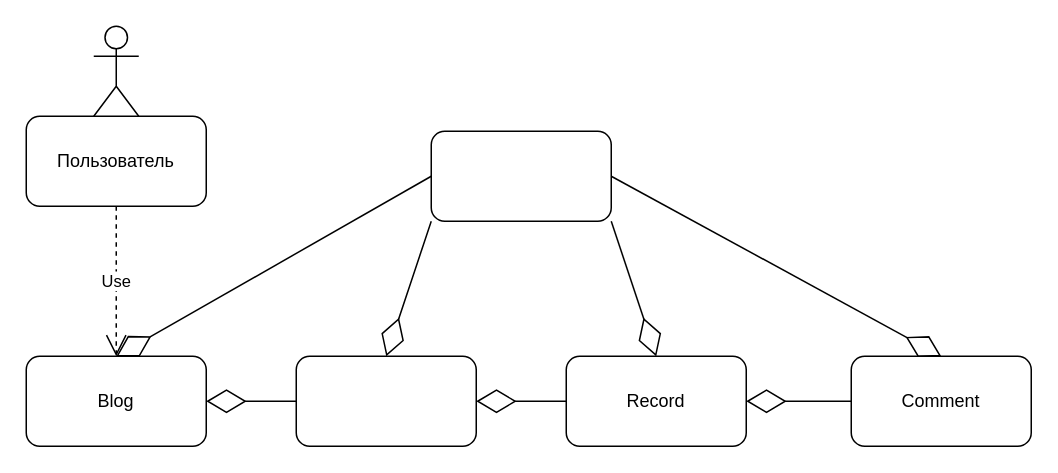
Image size: 1058x473. Some labels were removed from this diagram. The box of each missing label's shape, as (x1, y1, x2, y2) in pixels:
MList: (430, 130, 611, 221)
User: (295, 355, 476, 446)
